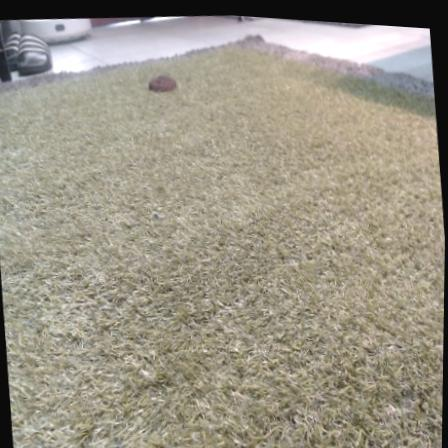dog-poop: (140, 64, 177, 95)
